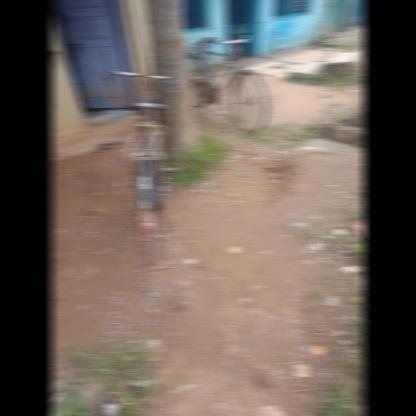Bicycle: (98, 55, 201, 267), (174, 20, 280, 154)
